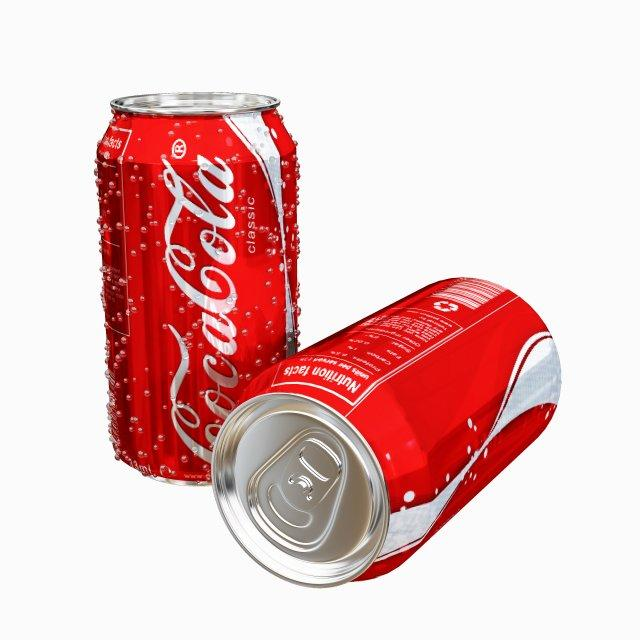cocacola: (214, 267, 564, 596), (98, 84, 309, 505)
